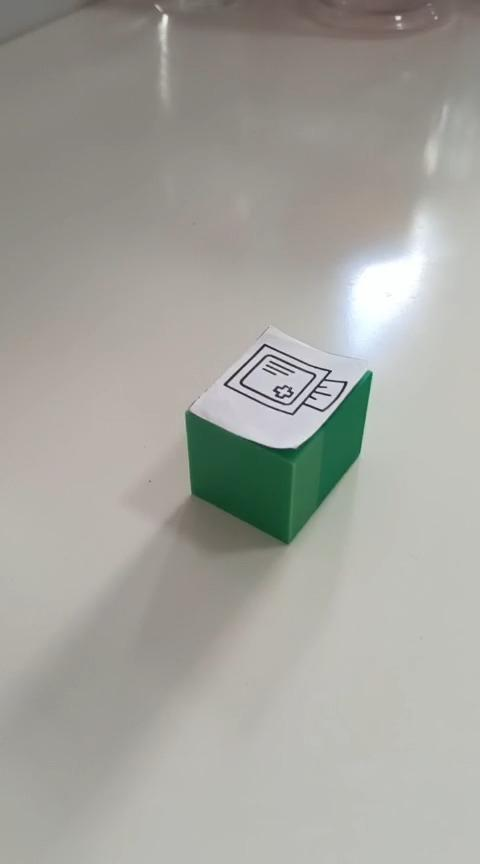Gauze: (183, 323, 373, 544)
